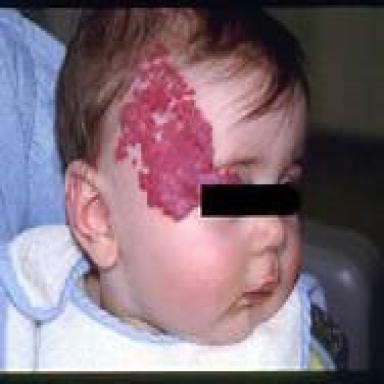Hemangiome: (115, 52, 240, 221)
